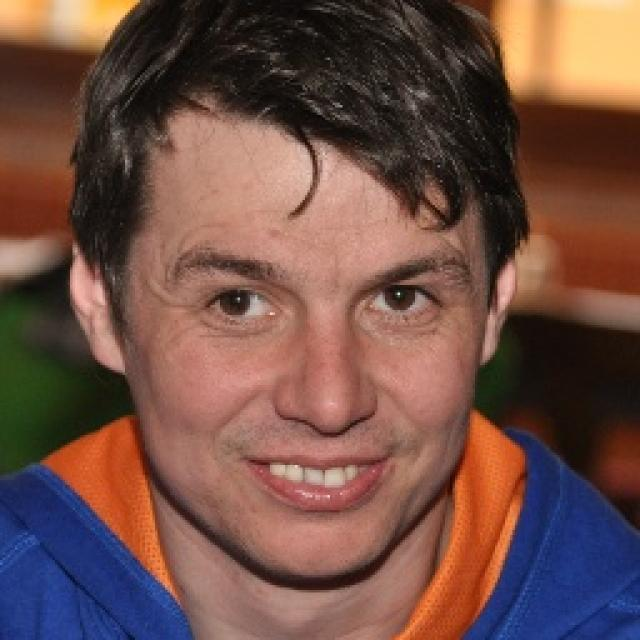earlobe: (92, 335, 128, 373), (479, 338, 498, 364)
eye: (206, 287, 281, 325), (368, 288, 442, 318)
nose: (277, 415, 376, 450)
wholeear: (70, 241, 127, 374), (482, 258, 517, 365)
